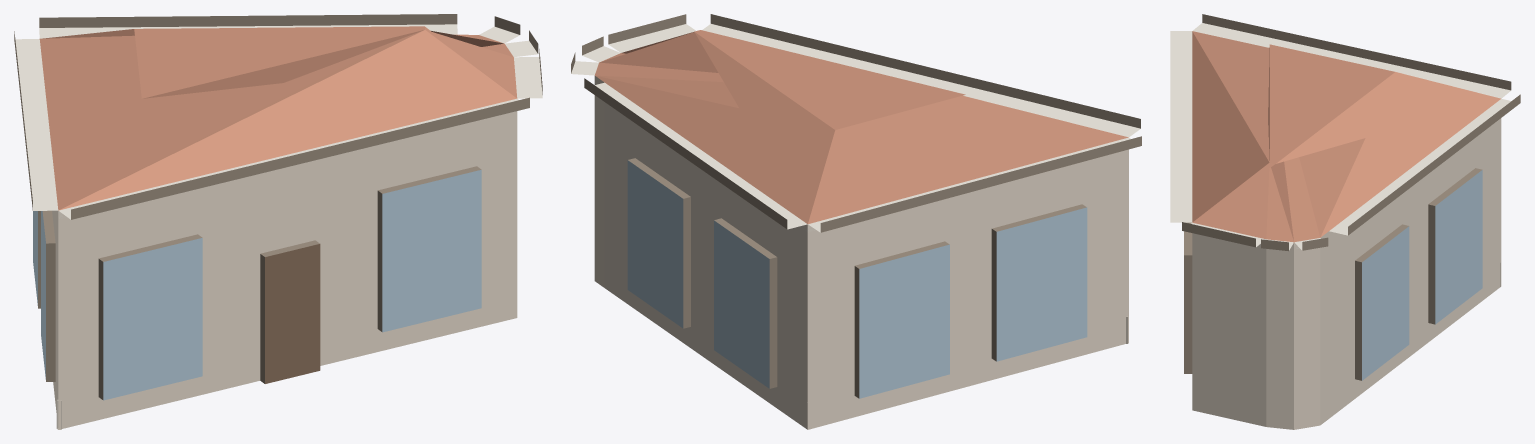
The picture shows the model from 3 angles, left to right: view 1: azimuth 30°, elevation 25°; view 2: azimuth 150°, elevation 25°; view 3: azimuth 270°, elevation 25°; orthographic projection. The views are drawn at different scales.
Parts seen in each view (by area): view 1: N-54#2; view 2: N-54#2; view 3: N-54#2.
Part boxes in pixels (bbox=[...]): N-54#2: bbox=[14, 14, 542, 429]; N-54#2: bbox=[571, 14, 1141, 429]; N-54#2: bbox=[1170, 14, 1520, 429].
Size of the model in its own units: 9.91 by 4.62 by 6.42.
